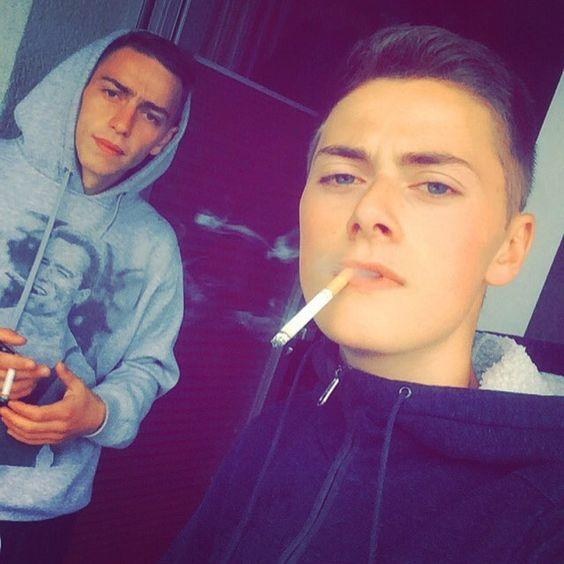cigarette: (271, 267, 361, 347)
